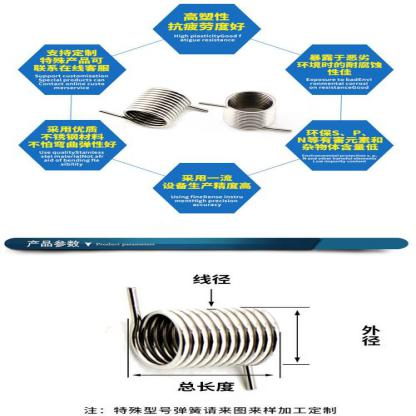FOD: (121, 284, 286, 392), (93, 83, 208, 130), (197, 91, 302, 135)
